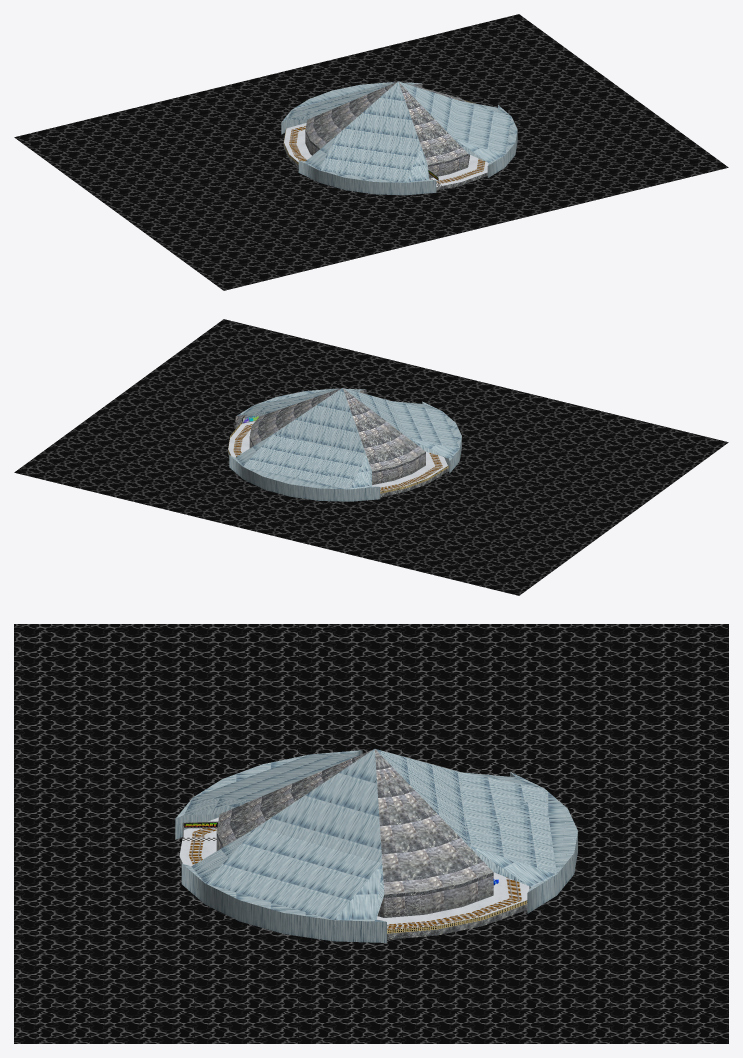
3 views of the same model, one above another, from view 1: azimuth 30°, elevation 25°; view 2: azimuth 150°, elevation 25°; view 3: azimuth 270°, elevation 25° (orthographic). The views are drawn at different scales.
Visible parts, largest first — view 1: course_model-SKP--Water, course_model-SKP--Material1, course_model-SKP--Rock, course_model-SKP--Ice, course_model-SKP--Rail; view 2: course_model-SKP--Water, course_model-SKP--Material1, course_model-SKP--Rock, course_model-SKP--Ice, course_model-SKP--Rail; view 3: course_model-SKP--Water, course_model-SKP--Material1, course_model-SKP--Rock, course_model-SKP--Ice, course_model-SKP--Rail.
Boxes of the visible parts, x1,y1,x2,y2 form: course_model-SKP--Water: (14, 14, 728, 290); course_model-SKP--Material1: (281, 81, 517, 195); course_model-SKP--Rock: (283, 81, 498, 190); course_model-SKP--Ice: (284, 123, 488, 186); course_model-SKP--Rail: (289, 125, 485, 186); course_model-SKP--Water: (14, 319, 728, 595); course_model-SKP--Material1: (229, 388, 461, 501); course_model-SKP--Rock: (228, 388, 448, 496); course_model-SKP--Ice: (228, 421, 447, 487); course_model-SKP--Rail: (233, 424, 443, 491); course_model-SKP--Water: (14, 624, 728, 1043); course_model-SKP--Material1: (175, 749, 577, 942); course_model-SKP--Rock: (179, 749, 527, 939); course_model-SKP--Ice: (179, 817, 529, 925); course_model-SKP--Rail: (182, 828, 522, 929).
Size of the model in its own units: 114685 by 15904 by 82521.
10 materials, 10 textured.
